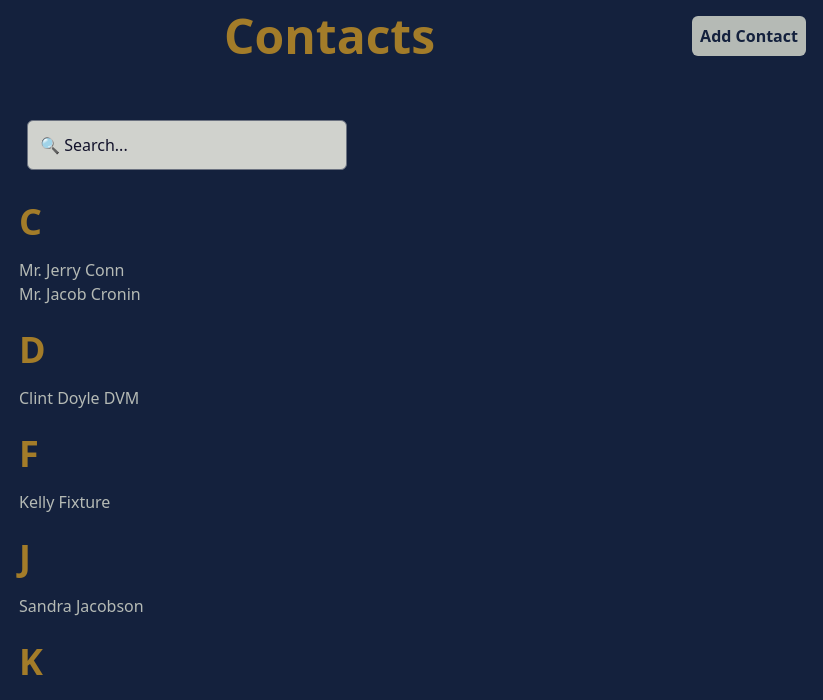
Test case: read › navigates between the contacts list and an individual contact
This screenshot has width=823, height=700.
Click the link "Kelly Fixture": click(65, 502) [19,491,110,513]
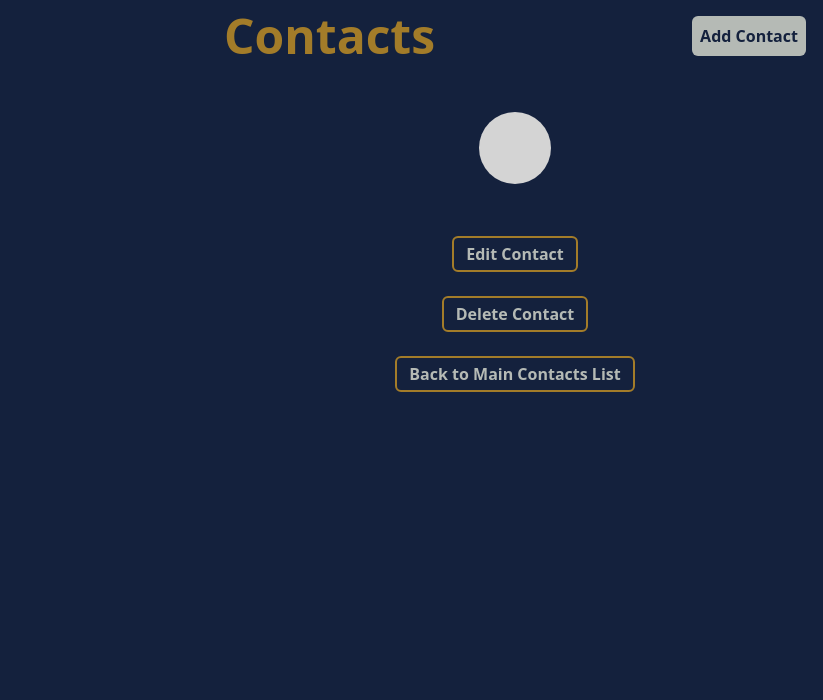
Note: Click on the "Back to Main Contacts List" link to navigate back to the contacts list:
Click the link "Back to Main Contacts List": click(515, 374) [395,356,634,392]
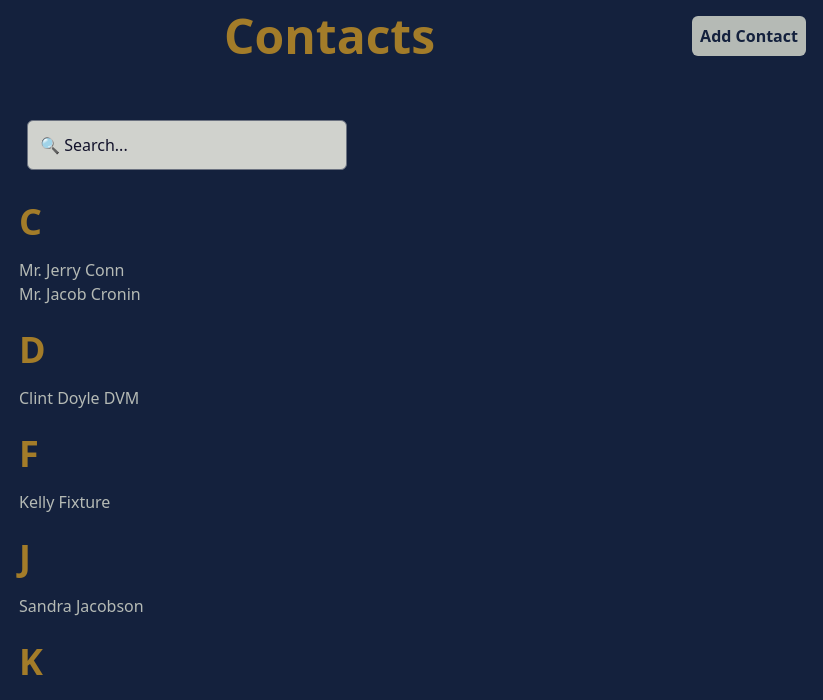
Expected: the number of list items is 10
